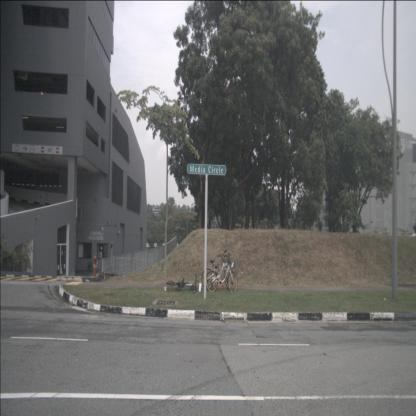vehicle-bicycle: (206, 253, 238, 293), (202, 249, 231, 290), (166, 273, 202, 294)
